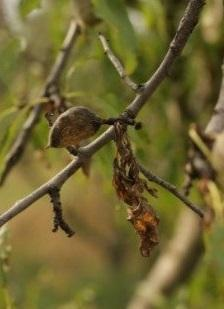mummified_fruits: (47, 106, 134, 153)
